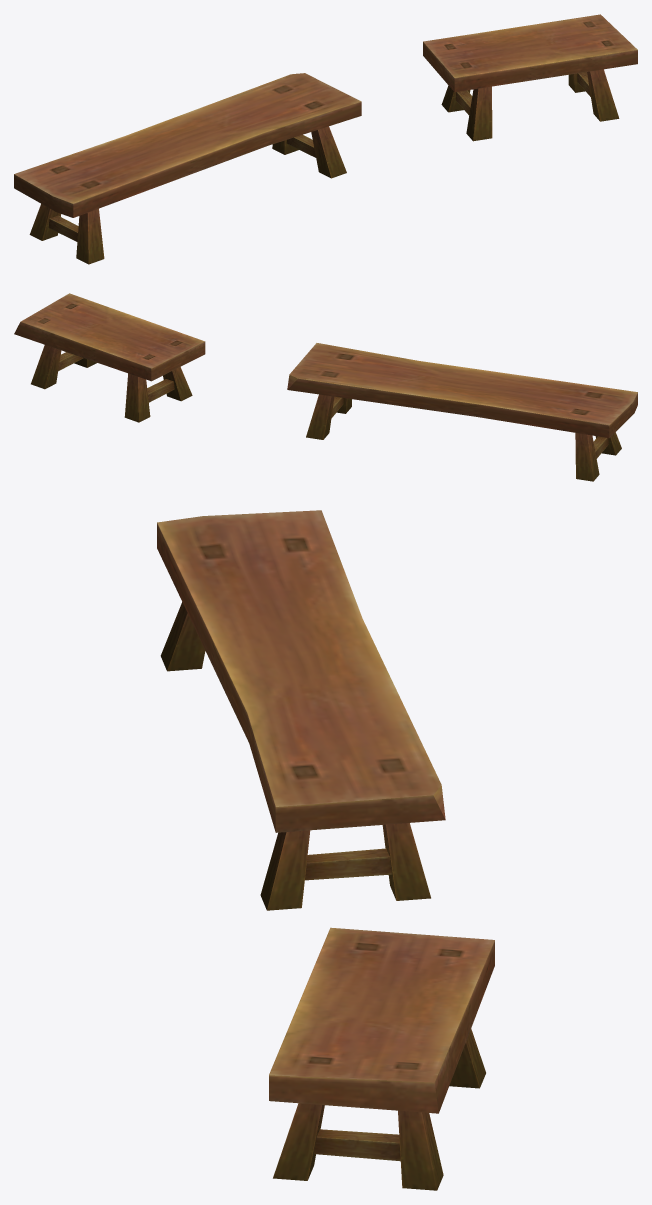
The model's file is deng_zi_001.FBX.
The picture shows the model from 3 angles, top to bottom: view 1: azimuth 30°, elevation 25°; view 2: azimuth 150°, elevation 25°; view 3: azimuth 270°, elevation 25°; orthographic projection. The views are drawn at different scales.
Parts seen in each view (by area): view 1: deng_zi_001_a, deng_zi_001_b; view 2: deng_zi_001_a, deng_zi_001_b; view 3: deng_zi_001_a, deng_zi_001_b.
Part boxes in pixels (x1,y1,x2,y2): deng_zi_001_a: [14, 73, 361, 264]; deng_zi_001_b: [423, 14, 637, 141]; deng_zi_001_a: [287, 343, 637, 481]; deng_zi_001_b: [14, 293, 205, 422]; deng_zi_001_a: [157, 510, 445, 910]; deng_zi_001_b: [269, 927, 494, 1190].
Size of the model in its own units: 366 by 44.44 by 94.63.
2 materials, 2 textured.
